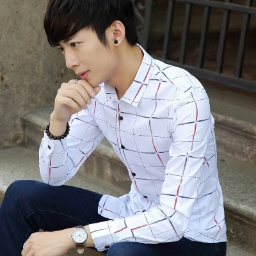face: (43, 1, 136, 87)
